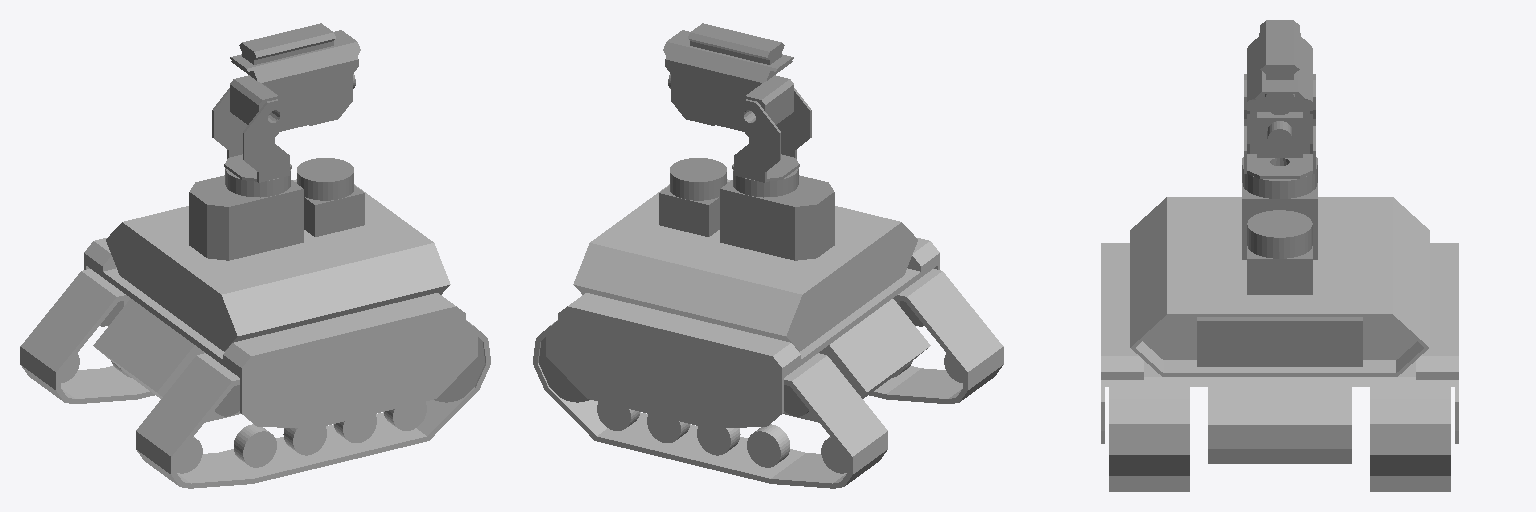
robot.urdf — ugv_beast:
<?xml version="1.0" encoding="utf-8"?>
<robot
  name="ugv_beast">
  <link name="base_footprint"></link>
  <link
    name="base_link">
    <inertial>
      <origin
        xyz="0.00354888755897578 5.76435566946675E-16 0.0484823949816299"
        rpy="0 0 0" />
      <mass
        value="2.03227373732274" />
      <inertia
        ixx="0.00454892624270289"
        ixy="1.88130381907213E-16"
        ixz="-1.49884111957882E-05"
        iyy="0.00640381872536097"
        iyz="2.79234562022245E-17"
        izz="0.00806050395736081" />
    </inertial>
    <visual>
      <origin
        xyz="0 0 0"
        rpy="0 0 0" />
      <geometry>
        <mesh
          filename="package://ugv_description/meshes/ugv_beast/base_link.stl" />
      </geometry>
      <material
        name="">
        <color
          rgba="0.752941176470588 0.752941176470588 0.752941176470588 1" />
      </material>
    </visual>
    <collision>
      <origin
        xyz="0 0 0"
        rpy="0 0 0" />
      <geometry>
        <mesh
          filename="package://ugv_description/meshes/ugv_beast/base_link.stl" />
      </geometry>
    </collision>
  </link>
  
    <joint name="base_joint" type="fixed">
    <parent link="base_footprint"/>
    <child link="base_link"/>
    <origin xyz="0.000460087791654118 6.50856019576702E-10 0.08" rpy="0 0 0"/> 
  </joint>
  
  <link name="base_imu_link"> 
      <origin xyz="0 0 0" rpy="0 0 0"/> 
  </link>
  
  <joint name="imu_joint" type="fixed">
      <parent link="base_link" />
      <child link="base_imu_link" />
      <origin xyz="0 0 0" rpy="0 0 0"/>
  </joint>
  
  <link
    name="left_up_wheel_link">
    <inertial>
      <origin
        xyz="1.85684800868557E-14 0.015500000552408 7.25114412958305E-16"
        rpy="0 0 0" />
      <mass
        value="0.0602574557338752" />
      <inertia
        ixx="1.41463499717618E-05"
        ixy="5.40675906873518E-18"
        ixz="2.24533090468138E-31"
        iyy="1.86414633348696E-05"
        iyz="1.86664834767948E-19"
        izz="1.41463499717618E-05" />
    </inertial>
    <visual>
      <origin
        xyz="0 0 0"
        rpy="0 0 0" />
      <geometry>
        <mesh
          filename="package://ugv_description/meshes/ugv_beast/left_up_wheel_link.stl" />
      </geometry>
      <material
        name="">
        <color
          rgba="0.627450980392157 0.627450980392157 0.627450980392157 1" />
      </material>
    </visual>
    <collision>
      <origin
        xyz="0 0 0"
        rpy="0 0 0" />
      <geometry>
        <mesh
          filename="package://ugv_description/meshes/ugv_beast/left_up_wheel_link.stl" />
      </geometry>
    </collision>
  </link>
  <joint
    name="left_up_wheel_link_joint"
    type="continuous">
    <origin
      xyz="0.0832175533230826 0.0619109945296507 0.0261492872743138"
      rpy="0 0 0" />
    <parent
      link="base_link" />
    <child
      link="left_up_wheel_link" />
    <axis
      xyz="0 -1 0" />
  </joint>
  <link
    name="left_down_wheel_link">
    <inertial>
      <origin
        xyz="7.2025718722557E-15 0.00599999763555432 3.33066907387547E-16"
        rpy="0 0 0" />
      <mass
        value="0.00565722297095184" />
      <inertia
        ixx="2.80120931171082E-07"
        ixy="1.73012571052522E-19"
        ixz="7.08181663938282E-33"
        iyy="4.2446851103923E-07"
        iyz="5.90904673131262E-21"
        izz="2.80120931171082E-07" />
    </inertial>
    <visual>
      <origin
        xyz="0 0 0"
        rpy="0 0 0" />
      <geometry>
        <mesh
          filename="package://ugv_description/meshes/ugv_beast/left_down_wheel_link.stl" />
      </geometry>
      <material
        name="">
        <color
          rgba="0.627450980392157 0.627450980392157 0.627450980392157 1" />
      </material>
    </visual>
    <collision>
      <origin
        xyz="0 0 0"
        rpy="0 0 0" />
      <geometry>
        <mesh
          filename="package://ugv_description/meshes/ugv_beast/left_down_wheel_link.stl" />
      </geometry>
    </collision>
  </link>
  <joint
    name="left_down_wheel_link_joint"
    type="continuous">
    <origin
      xyz="-0.0722382907996229 0.0707110003635451 0.0356492872743132"
      rpy="0 0 0" />
    <parent
      link="base_link" />
    <child
      link="left_down_wheel_link" />
    <axis
      xyz="0 -1 0" />
  </joint>
  <link
    name="right_up_wheel_link">
    <inertial>
      <origin
        xyz="1.83603132697385E-14 -0.015500000552408 7.25114412958305E-16"
        rpy="0 0 0" />
      <mass
        value="0.0602574557338752" />
      <inertia
        ixx="1.41463499717618E-05"
        ixy="-5.34398065104604E-18"
        ixz="2.21929095291762E-31"
        iyy="1.86414633348696E-05"
        iyz="-1.86664834767948E-19"
        izz="1.41463499717618E-05" />
    </inertial>
    <visual>
      <origin
        xyz="0 0 0"
        rpy="0 0 0" />
      <geometry>
        <mesh
          filename="package://ugv_description/meshes/ugv_beast/right_up_wheel_link.stl" />
      </geometry>
      <material
        name="">
        <color
          rgba="0.627450980392157 0.627450980392157 0.627450980392157 1" />
      </material>
    </visual>
    <collision>
      <origin
        xyz="0 0 0"
        rpy="0 0 0" />
      <geometry>
        <mesh
          filename="package://ugv_description/meshes/ugv_beast/right_up_wheel_link.stl" />
      </geometry>
    </collision>
  </link>
  <joint
    name="right_up_wheel_link_joint"
    type="continuous">
    <origin
      xyz="0.0832175533230817 -0.0619109945296519 0.0261492872743138"
      rpy="0 0 0" />
    <parent
      link="base_link" />
    <child
      link="right_up_wheel_link" />
    <axis
      xyz="0 -1 0" />
  </joint>
  <link
    name="right_down_wheel_link">
    <inertial>
      <origin
        xyz="7.13318293321663E-15 -0.00599999763555434 3.33066907387547E-16"
        rpy="0 0 0" />
      <mass
        value="0.00565722297095184" />
      <inertia
        ixx="2.80120931171082E-07"
        ixy="-1.70986035603665E-19"
        ixz="6.99903667727259E-33"
        iyy="4.2446851103923E-07"
        iyz="-5.90904673131262E-21"
        izz="2.80120931171082E-07" />
    </inertial>
    <visual>
      <origin
        xyz="0 0 0"
        rpy="0 0 0" />
      <geometry>
        <mesh
          filename="package://ugv_description/meshes/ugv_beast/right_down_wheel_link.stl" />
      </geometry>
      <material
        name="">
        <color
          rgba="0.627450980392157 0.627450980392157 0.627450980392157 1" />
      </material>
    </visual>
    <collision>
      <origin
        xyz="0 0 0"
        rpy="0 0 0" />
      <geometry>
        <mesh
          filename="package://ugv_description/meshes/ugv_beast/right_down_wheel_link.stl" />
      </geometry>
    </collision>
  </link>
  <joint
    name="right_down_wheel_link_joint"
    type="continuous">
    <origin
      xyz="-0.0722382907996239 -0.0707110003635441 0.0356492872743132"
      rpy="0 0 0" />
    <parent
      link="base_link" />
    <child
      link="right_down_wheel_link" />
    <axis
      xyz="0 1 0" />
  </joint>
  <link
    name="3d_camera_link">
    <inertial>
      <origin
        xyz="0.00849999999999999 -6.20230426557913E-17 0"
        rpy="0 0 0" />
      <mass
        value="0.043316" />
      <inertia
        ixx="3.27216283333333E-05"
        ixy="-2.01335432272409E-19"
        ixz="-1.19114008207638E-22"
        iyy="3.87317233333333E-06"
        iyz="-2.37303626261453E-22"
        izz="3.09348433333333E-05" />
    </inertial>
    <visual>
      <origin
        xyz="0 0 0"
        rpy="0 0 0" />
      <geometry>
        <mesh
          filename="package://ugv_description/meshes/ugv_beast/3d_camera_link.stl" />
      </geometry>
      <material
        name="">
        <color
          rgba="0.627450980392157 0.627450980392157 0.627450980392157 1" />
      </material>
    </visual>
    <collision>
      <origin
        xyz="0 0 0"
        rpy="0 0 0" />
      <geometry>
        <mesh
          filename="package://ugv_description/meshes/ugv_beast/3d_camera_link.stl" />
      </geometry>
    </collision>
  </link>
  <joint
    name="3d_camera_link_joint"
    type="fixed">
    <origin
      xyz="0.069874862129561 0 0.0792560807319928"
      rpy="0 0 0" />
    <parent
      link="base_link" />
    <child
      link="3d_camera_link" />
    <axis
      xyz="0 0 0" />
  </joint>
  <link
    name="base_lidar_link">
    <inertial>
      <origin
        xyz="-6.93889390390723E-18 -1.96708838451151E-18 0.0165546434494574"
        rpy="0 0 0" />
      <mass
        value="0.0418000091653573" />
      <inertia
        ixx="8.26853377699878E-06"
        ixy="-1.03397576569261E-22"
        ixz="-2.71740984786046E-22"
        iyy="8.26853377699876E-06"
        iyz="5.86109969113615E-23"
        izz="8.32524607487378E-06" />
    </inertial>
    <visual>
      <origin
        xyz="0 0 0"
        rpy="0 0 0" />
      <geometry>
        <mesh
          filename="package://ugv_description/meshes/ugv_beast/base_lidar_link.stl" />
      </geometry>
      <material
        name="">
        <color
          rgba="0.627450980392157 0.627450980392157 0.627450980392157 1" />
      </material>
    </visual>
    <collision>
      <origin
        xyz="0 0 0"
        rpy="0 0 0" />
      <geometry>
        <mesh
          filename="package://ugv_description/meshes/ugv_beast/base_lidar_link.stl" />
      </geometry>
    </collision>
  </link>
  <joint
    name="base_lidar_link_joint"
    type="fixed">
    <origin
      xyz="0.0443794126815426 0 0.0973030807319928"
      rpy="0 0 1.5708" />
    <parent
      link="base_link" />
    <child
      link="base_lidar_link" />
    <axis
      xyz="0 0 0" />
  </joint>
  <link
    name="pt_base_link">
    <inertial>
      <origin
        xyz="0.00127554206615719 2.79398301127343E-15 0.0215158687368638"
        rpy="0 0 0" />
      <mass
        value="0.109518186442022" />
      <inertia
        ixx="3.30168147078049E-05"
        ixy="-2.59519377344745E-18"
        ixz="-2.93137934608679E-06"
        iyy="5.1580984319637E-05"
        iyz="-6.30528721442011E-18"
        izz="4.86101329827053E-05" />
    </inertial>
    <visual>
      <origin
        xyz="0 0 0"
        rpy="0 0 0" />
      <geometry>
        <mesh
          filename="package://ugv_description/meshes/ugv_beast/pt_base_link.stl" />
      </geometry>
      <material
        name="">
        <color
          rgba="0.627450980392157 0.627450980392157 0.627450980392157 1" />
      </material>
    </visual>
    <collision>
      <origin
        xyz="0 0 0"
        rpy="0 0 0" />
      <geometry>
        <mesh
          filename="package://ugv_description/meshes/ugv_beast/pt_base_link.stl" />
      </geometry>
    </collision>
  </link>
  <joint
    name="pt_base_link_joint"
    type="fixed">
    <origin
      xyz="-0.0143274614150036 0 0.0973030807319928"
      rpy="0 0 0" />
    <parent
      link="base_link" />
    <child
      link="pt_base_link" />
    <axis
      xyz="0 0 0" />
  </joint>
  <link
    name="pt_link1">
    <inertial>
      <origin
        xyz="-0.00338129216527271 1.03496094682257E-15 0.0176096758355075"
        rpy="0 0 0" />
      <mass
        value="0.00710917409663916" />
      <inertia
        ixx="3.89716322571471E-06"
        ixy="-3.30348820061167E-19"
        ixz="2.3291936613051E-07"
        iyy="2.4980668051168E-06"
        iyz="-2.89344689202842E-19"
        izz="2.60402792588347E-06" />
    </inertial>
    <visual>
      <origin
        xyz="0 0 0"
        rpy="0 0 0" />
      <geometry>
        <mesh
          filename="package://ugv_description/meshes/ugv_beast/pt_link1.stl" />
      </geometry>
      <material
        name="">
        <color
          rgba="0.627450980392157 0.627450980392157 0.627450980392157 1" />
      </material>
    </visual>
    <collision>
      <origin
        xyz="0 0 0"
        rpy="0 0 0" />
      <geometry>
        <mesh
          filename="package://ugv_description/meshes/ugv_beast/pt_link1.stl" />
      </geometry>
    </collision>
  </link>
  <joint
    name="pt_base_link_to_pt_link1"
    type="revolute">
    <origin
      xyz="0.010151 0 0.048"
      rpy="0 0 0" />
    <parent
      link="pt_base_link" />
    <child
      link="pt_link1" />
    <axis
      xyz="0 0 -1" />
    <limit
      lower="-3.14"
      upper="3.14"
      effort="0"
      velocity="0" />
  </joint>
  <link
    name="pt_link2">
    <inertial>
      <origin
        xyz="0.0218201278828439 0.01195900026438 0.020000000000001"
        rpy="0 0 0" />
      <mass
        value="0.0970496053012515" />
      <inertia
        ixx="3.07158301509253E-05"
        ixy="-9.60865010663642E-07"
        ixz="-1.05774445029445E-19"
        iyy="3.74067734460567E-05"
        iyz="-1.71534698932683E-18"
        izz="4.94991610517831E-05" />
    </inertial>
    <visual>
      <origin
        xyz="0 0 0"
        rpy="0 0 0" />
      <geometry>
        <mesh
          filename="package://ugv_description/meshes/ugv_beast/pt_link2.stl" />
      </geometry>
      <material
        name="">
        <color
          rgba="0.627450980392157 0.627450980392157 0.627450980392157 1" />
      </material>
    </visual>
    <collision>
      <origin
        xyz="0 0 0"
        rpy="0 0 0" />
      <geometry>
        <mesh
          filename="package://ugv_description/meshes/ugv_beast/pt_link2.stl" />
      </geometry>
    </collision>
  </link>
  <joint
    name="pt_link1_to_pt_link2"
    type="revolute">
    <origin
      xyz="0 0.02 0.043003"
      rpy="1.5708 0 0" />
    <parent
      link="pt_link1" />
    <child
      link="pt_link2" />
    <axis
      xyz="0 0 1" />
    <limit
      lower="-0.5233333"
      upper="1.5707963"
      effort="0"
      velocity="0" />
  </joint>
  <link
    name="pt_camera_link">
    <inertial>
      <origin
        xyz="0.00630730338217479 -5.20013413546207E-17 0.000950308188413934"
        rpy="0 -1.5708 1.5708" />
      <mass
        value="0.00623651844028495" />
      <inertia
        ixx="5.11295942352593E-07"
        ixy="-4.50040932181143E-22"
        ixz="-4.00917493406375E-08"
        iyy="3.99078324787848E-07"
        iyz="4.11363605148623E-22"
        izz="4.02518684222241E-07" />
    </inertial>
    <visual>
      <origin
        xyz="0 0 0"
        rpy="0 -1.5708 1.5708" />
      <geometry>
        <mesh
          filename="package://ugv_description/meshes/ugv_beast/pt_camera_link.stl" />
      </geometry>
      <material
        name="">
        <color
          rgba="0.627450980392157 0.627450980392157 0.627450980392157 1" />
      </material>
    </visual>
    <collision>
      <origin
        xyz="0 0 0"
        rpy="0 -1.5708 1.5708" />
      <geometry>
        <mesh
          filename="package://ugv_description/meshes/ugv_beast/pt_camera_link.stl" />
      </geometry>
    </collision>
  </link>
  <joint
    name="pt_link2_to_pt_camera_link"
    type="fixed">
    <origin
      xyz="0.0476858338436577 -0.000568997109077291 0.0199999999999997"
      rpy="3.14 -1.5708 0" />
    <parent
      link="pt_link2" />
    <child
      link="pt_camera_link" />
    <axis
      xyz="0 0 0" />
  </joint>
</robot>

--- What the picture shows (computed from the rendered views, not written in the file) ---
The picture shows the robot from 3 angles, left to right: view 1: azimuth 30°, elevation 25°; view 2: azimuth 150°, elevation 25°; view 3: azimuth 270°, elevation 25°; orthographic projection.
Model ugv_beast with 13 links and 12 joints (2 revolute, 4 continuous, 6 fixed), rooted at base_footprint, posed all joints at 0.
Links seen in each view (by area): view 1: base_link, pt_link2, pt_base_link, pt_link1, base_lidar_link, right_up_wheel_link; view 2: base_link, pt_link2, pt_base_link, pt_link1, base_lidar_link, left_up_wheel_link; view 3: base_link, 3d_camera_link, pt_link2, base_lidar_link, pt_base_link, pt_camera_link, pt_link1.
Boxes of the visible links, box(x1,y1,x2,y2) form: base_link: box(20, 179, 490, 488); pt_link2: box(230, 23, 360, 131); pt_base_link: box(189, 168, 303, 260); pt_link1: box(212, 88, 291, 182); base_lidar_link: box(295, 158, 364, 236); right_up_wheel_link: box(434, 337, 484, 402); base_link: box(533, 179, 1003, 488); pt_link2: box(663, 23, 793, 131); pt_base_link: box(720, 168, 834, 260); pt_link1: box(732, 88, 811, 182); base_lidar_link: box(659, 158, 728, 236); left_up_wheel_link: box(539, 337, 589, 402); base_link: box(1101, 197, 1458, 491); 3d_camera_link: box(1197, 317, 1362, 366); pt_link2: box(1247, 20, 1312, 153); base_lidar_link: box(1247, 210, 1312, 294); pt_base_link: box(1242, 157, 1317, 259); pt_camera_link: box(1257, 112, 1302, 157); pt_link1: box(1244, 74, 1315, 178).
Bounding box of the posed robot: 0.2306 × 0.1968 × 0.2508 m (x, y, z).
11 mesh visuals loaded from 11 distinct referenced files (11 binary STL).